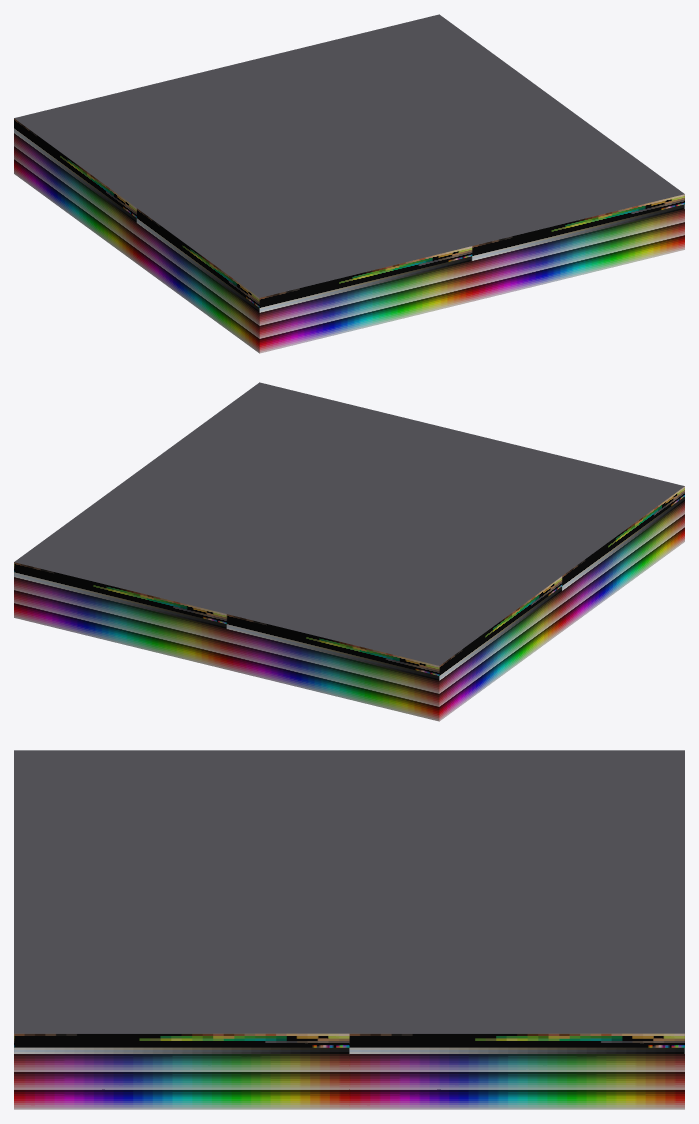
File: GrassSquare.fbx
3 views of the same model, one above another, from view 1: azimuth 30°, elevation 25°; view 2: azimuth 150°, elevation 25°; view 3: azimuth 270°, elevation 25° (orthographic). The views are drawn at different scales.
Visible parts, largest first — view 1: GrassSquare; view 2: GrassSquare; view 3: GrassSquare.
Boxes of the visible parts, x1,y1,x2,y2 form: GrassSquare: (14, 14, 684, 353); GrassSquare: (14, 382, 684, 721); GrassSquare: (14, 750, 684, 1109).
Bounding box in the file's own units: 400 × 50 × 400.
